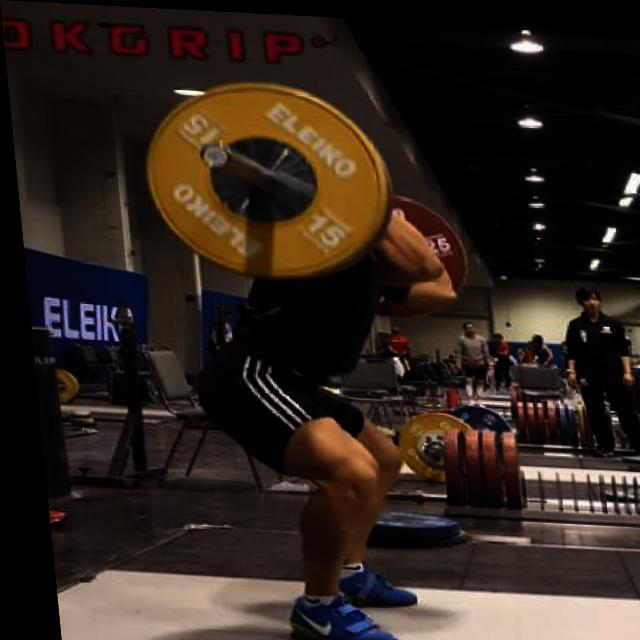barbell: (129, 69, 398, 291)
